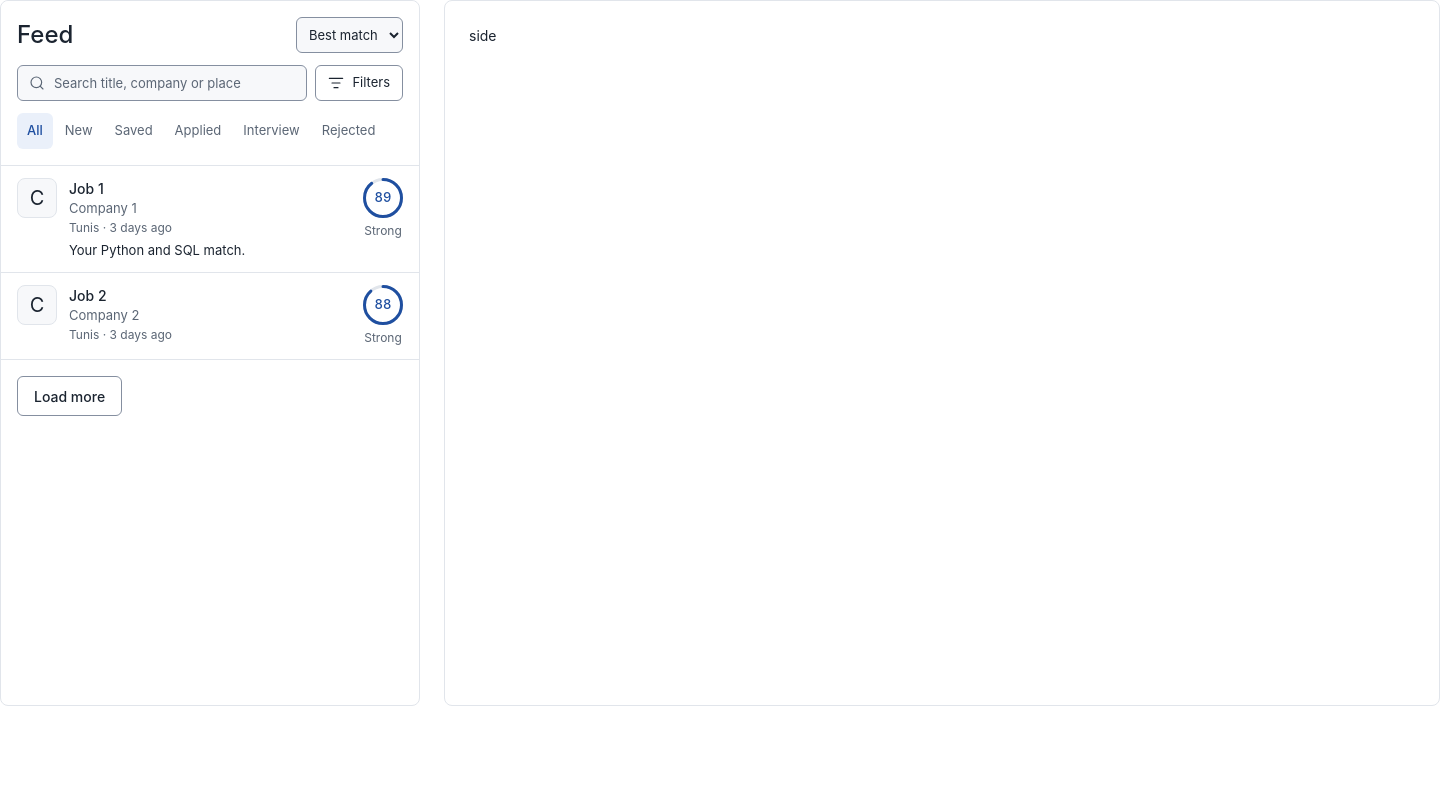
Test: feed list › reloads the list from the start when the cursor is refused
Click the button "Load more".
click(70, 396)  # box [17,376,122,416]
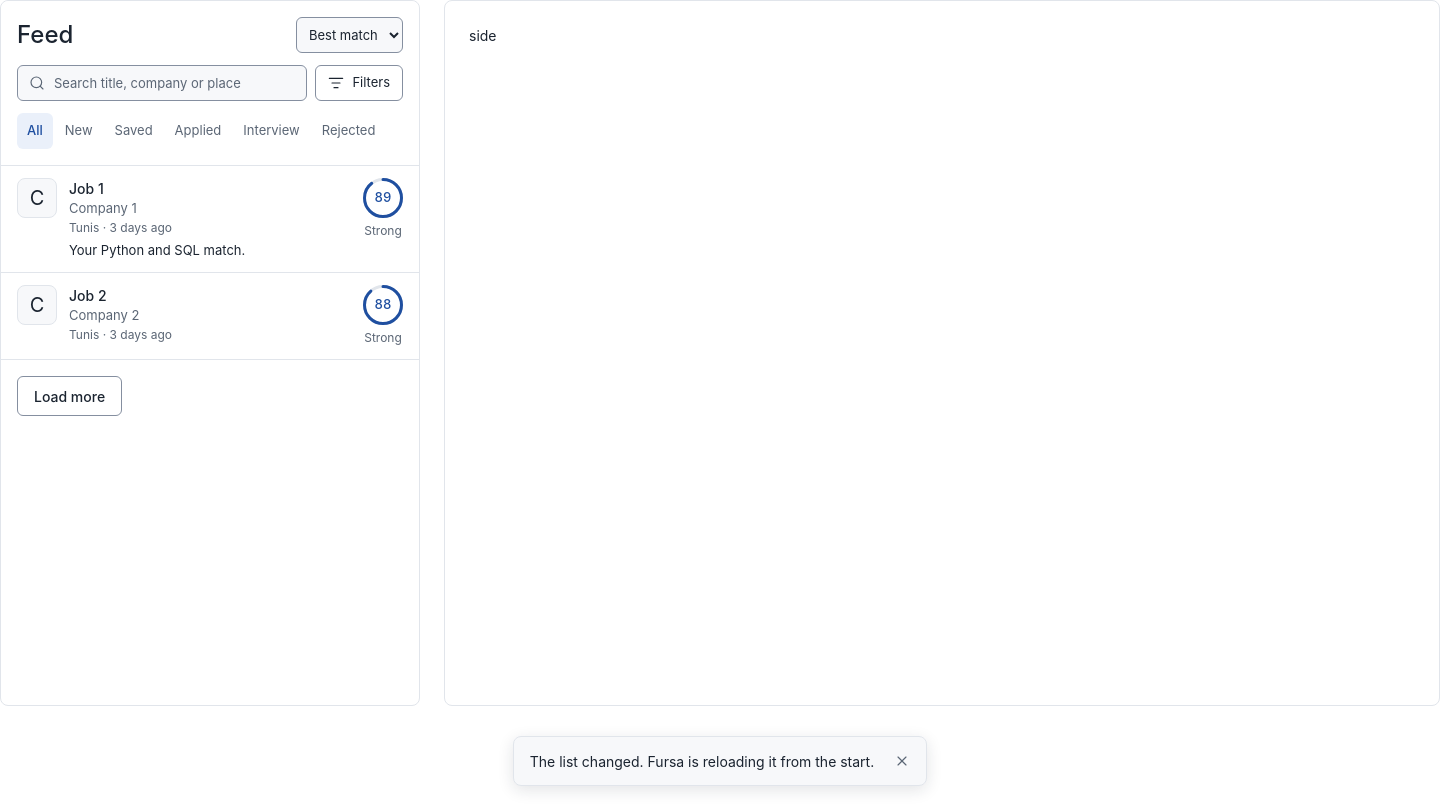
Expected: the number of list items is 2, [1,166,419,273]; [1,273,419,359]
Expected: the text "The list changed. Fursa is reloading it from the start." is shown, [530,750,874,772]
